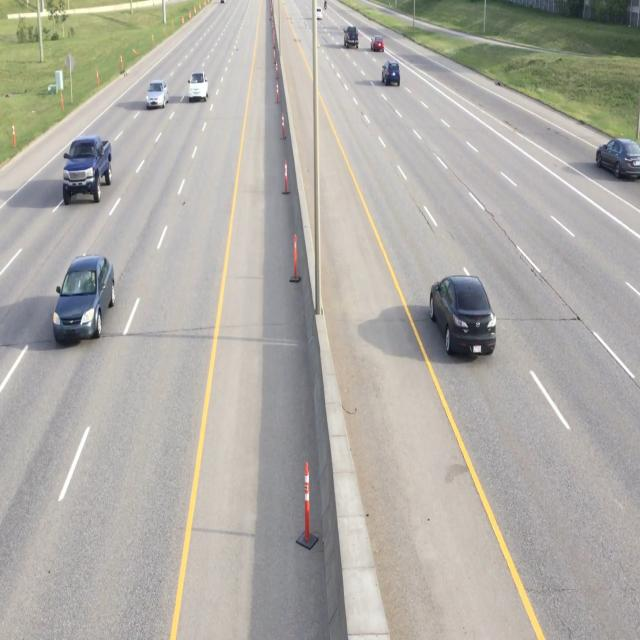Car: (429, 270, 500, 368), (54, 256, 117, 343), (62, 134, 115, 206), (597, 132, 640, 187), (146, 78, 169, 112), (188, 70, 210, 104), (381, 60, 402, 89), (342, 23, 361, 50), (370, 33, 386, 55)
